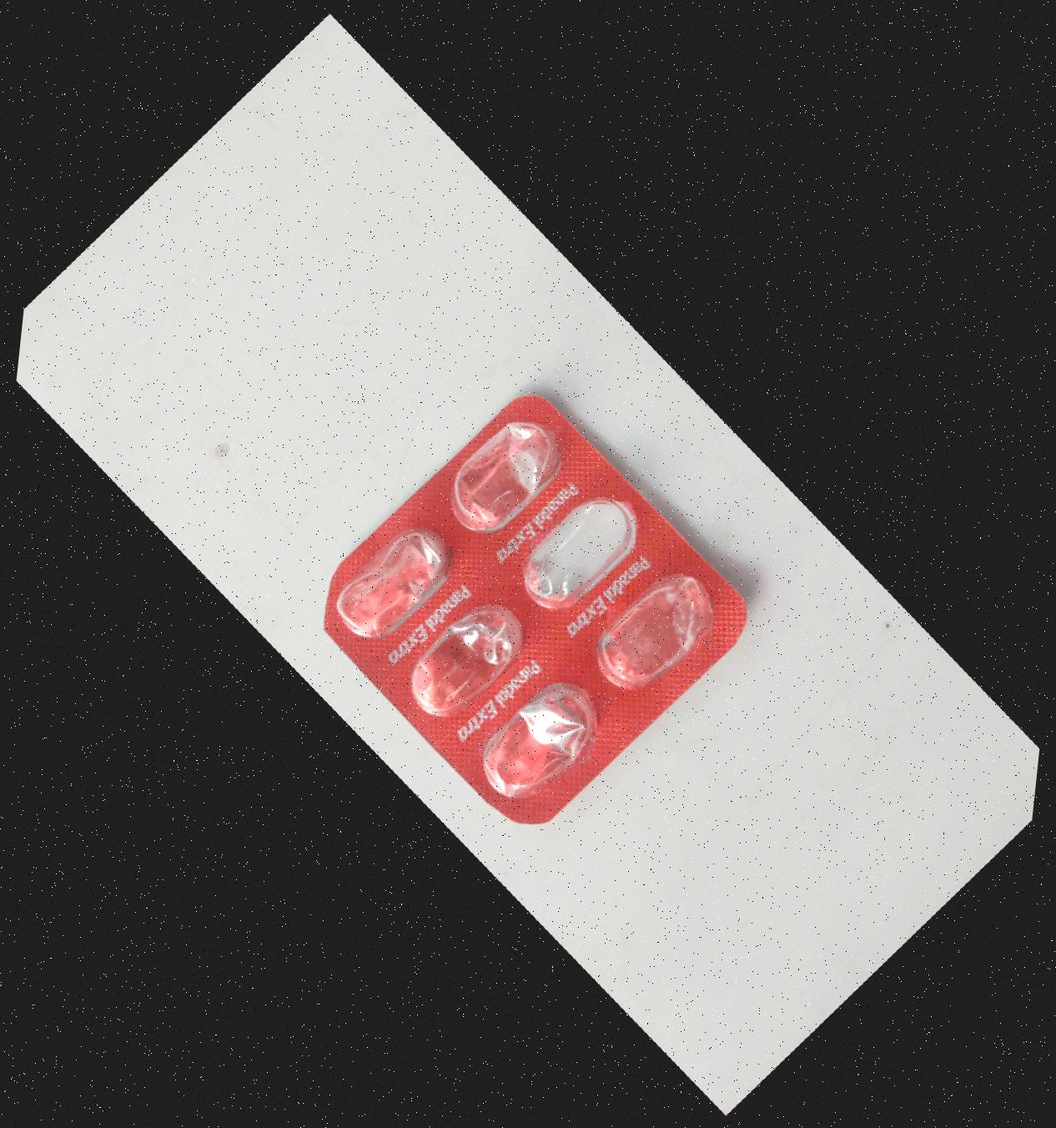Empty: (315, 506, 471, 660), (580, 555, 735, 709), (463, 665, 618, 819), (503, 475, 658, 629), (426, 399, 581, 553), (387, 584, 543, 737)
